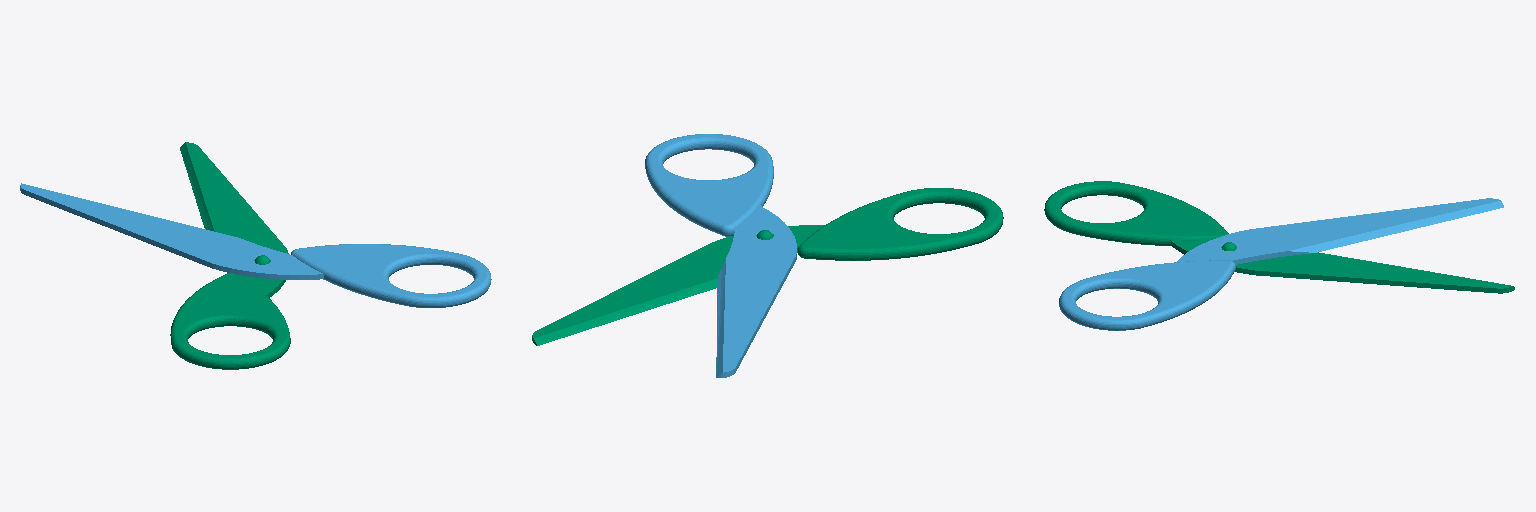
URDF robot description (partnet_51e8f39e13810eb3467ca2ad6571afff):
<?xml version="1.0" ?>
<robot name="partnet_51e8f39e13810eb3467ca2ad6571afff">
	<link name="base"/>
	<link name="link_0">
		<visual name="blade-4">
			<origin xyz="-0.01692144335146522 0 0.0011744420559576712"/>
			<geometry>
				<mesh filename="textured_objs/original-6.obj"/>
			</geometry>
		</visual>
		<visual name="handle-5">
			<origin xyz="-0.01692144335146522 0 0.0011744420559576712"/>
			<geometry>
				<mesh filename="textured_objs/original-5.obj"/>
			</geometry>
		</visual>
		<collision>
			<origin xyz="-0.01692144335146522 0 0.0011744420559576712"/>
			<geometry>
				<mesh filename="textured_objs/original-6.obj"/>
			</geometry>
		</collision>
		<collision>
			<origin xyz="-0.01692144335146522 0 0.0011744420559576712"/>
			<geometry>
				<mesh filename="textured_objs/original-5.obj"/>
			</geometry>
		</collision>
	</link>
	<joint name="joint_0" type="revolute">
		<origin xyz="0.01692144335146522 0 -0.0011744420559576712"/>
		<axis xyz="0 1 0"/>
		<child link="link_0"/>
		<parent link="link_1"/>
		<limit lower="-0.6723008278682154" upper="0.3518583772020568"/>
	</joint>
	<link name="link_1">
		<visual name="screw-3">
			<origin xyz="0 0 0"/>
			<geometry>
				<mesh filename="textured_objs/original-2.obj"/>
			</geometry>
		</visual>
		<visual name="screw-3">
			<origin xyz="0 0 0"/>
			<geometry>
				<mesh filename="textured_objs/original-3.obj"/>
			</geometry>
		</visual>
		<visual name="blade-6">
			<origin xyz="0 0 0"/>
			<geometry>
				<mesh filename="textured_objs/original-9.obj"/>
			</geometry>
		</visual>
		<visual name="handle-7">
			<origin xyz="0 0 0"/>
			<geometry>
				<mesh filename="textured_objs/original-8.obj"/>
			</geometry>
		</visual>
		<collision>
			<origin xyz="0 0 0"/>
			<geometry>
				<mesh filename="textured_objs/original-2.obj"/>
			</geometry>
		</collision>
		<collision>
			<origin xyz="0 0 0"/>
			<geometry>
				<mesh filename="textured_objs/original-3.obj"/>
			</geometry>
		</collision>
		<collision>
			<origin xyz="0 0 0"/>
			<geometry>
				<mesh filename="textured_objs/original-9.obj"/>
			</geometry>
		</collision>
		<collision>
			<origin xyz="0 0 0"/>
			<geometry>
				<mesh filename="textured_objs/original-8.obj"/>
			</geometry>
		</collision>
	</link>
	<joint name="joint_1" type="fixed">
		<origin rpy="1.570796326794897 0 -1.570796326794897" xyz="0 0 0"/>
		<child link="link_1"/>
		<parent link="base"/>
	</joint>
</robot>

--- Facts derived from the render (not from the file) ---
Views: 3 orthographic renders of the robot side by side, from view 1: azimuth 30°, elevation 25°; view 2: azimuth 150°, elevation 25°; view 3: azimuth 270°, elevation 25°.
Robot: partnet_51e8f39e13810eb3467ca2ad6571afff — 3 links, 2 joints (1 revolute, 1 fixed); root link base; default pose: every joint at zero.
Visible links, largest first — view 1: link_0, link_1; view 2: link_0, link_1; view 3: link_0, link_1.
Boxes of the visible links, x1,y1,x2,y2 form: link_0: (20, 183, 491, 307); link_1: (170, 142, 290, 369); link_0: (645, 134, 796, 377); link_1: (532, 188, 1003, 345); link_0: (1059, 198, 1503, 330); link_1: (1044, 181, 1514, 293).
Bounding box of the posed robot: 1.21 × 1.63 × 0.0673 m (x, y, z).
Meshes: 6 distinct files referenced, 6 mesh visuals loaded (6 OBJ).